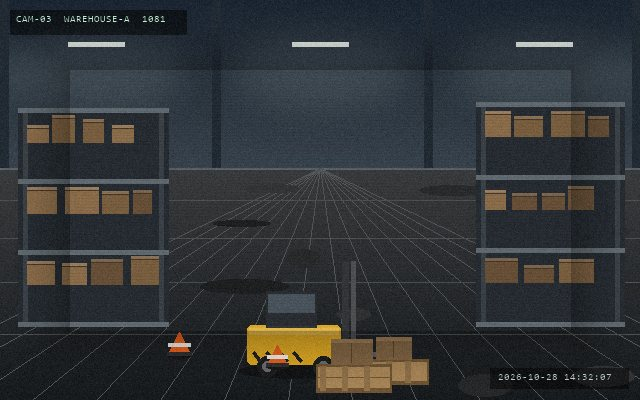cone: (166, 330, 192, 358), (265, 343, 289, 369)
forklift: (243, 259, 388, 378)
pallet: (314, 362, 393, 394), (361, 357, 430, 386)
shelf: (476, 102, 624, 322), (18, 108, 168, 322)
